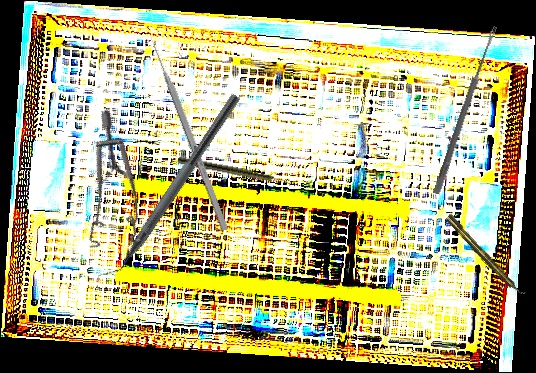Chopper: (94, 84, 242, 291)
Handpiece: (443, 212, 527, 300), (177, 156, 293, 187)
Pusher: (146, 32, 230, 232)
Speculum: (31, 107, 179, 267)
Surgical Spoon: (432, 25, 499, 195)
